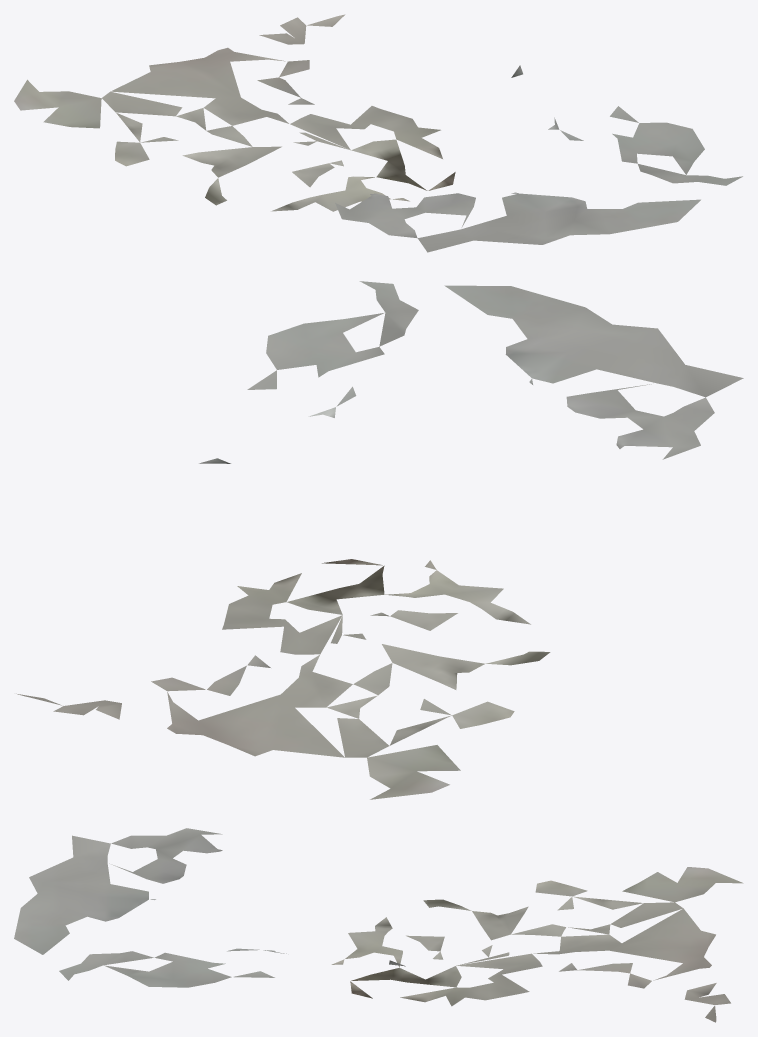
Rendered from midPoint1-transformed.glb.
3 views of the same model, one above another, from view 1: azimuth 30°, elevation 25°; view 2: azimuth 150°, elevation 25°; view 3: azimuth 270°, elevation 25° (orthographic). The views are drawn at different scales.
Visible parts, largest first — view 1: Tile_8.001; view 2: Tile_8.001; view 3: Tile_8.001.
Part boxes in pixels (x1=…): Tile_8.001: x1=14, y1=14, x2=742, y2=252; Tile_8.001: x1=16, y1=281, x2=743, y2=799; Tile_8.001: x1=14, y1=828, x2=743, y2=1022.
Bounding box in the file's own units: 1.55 × 0.3023 × 2.51.
1 material, 1 textured.
